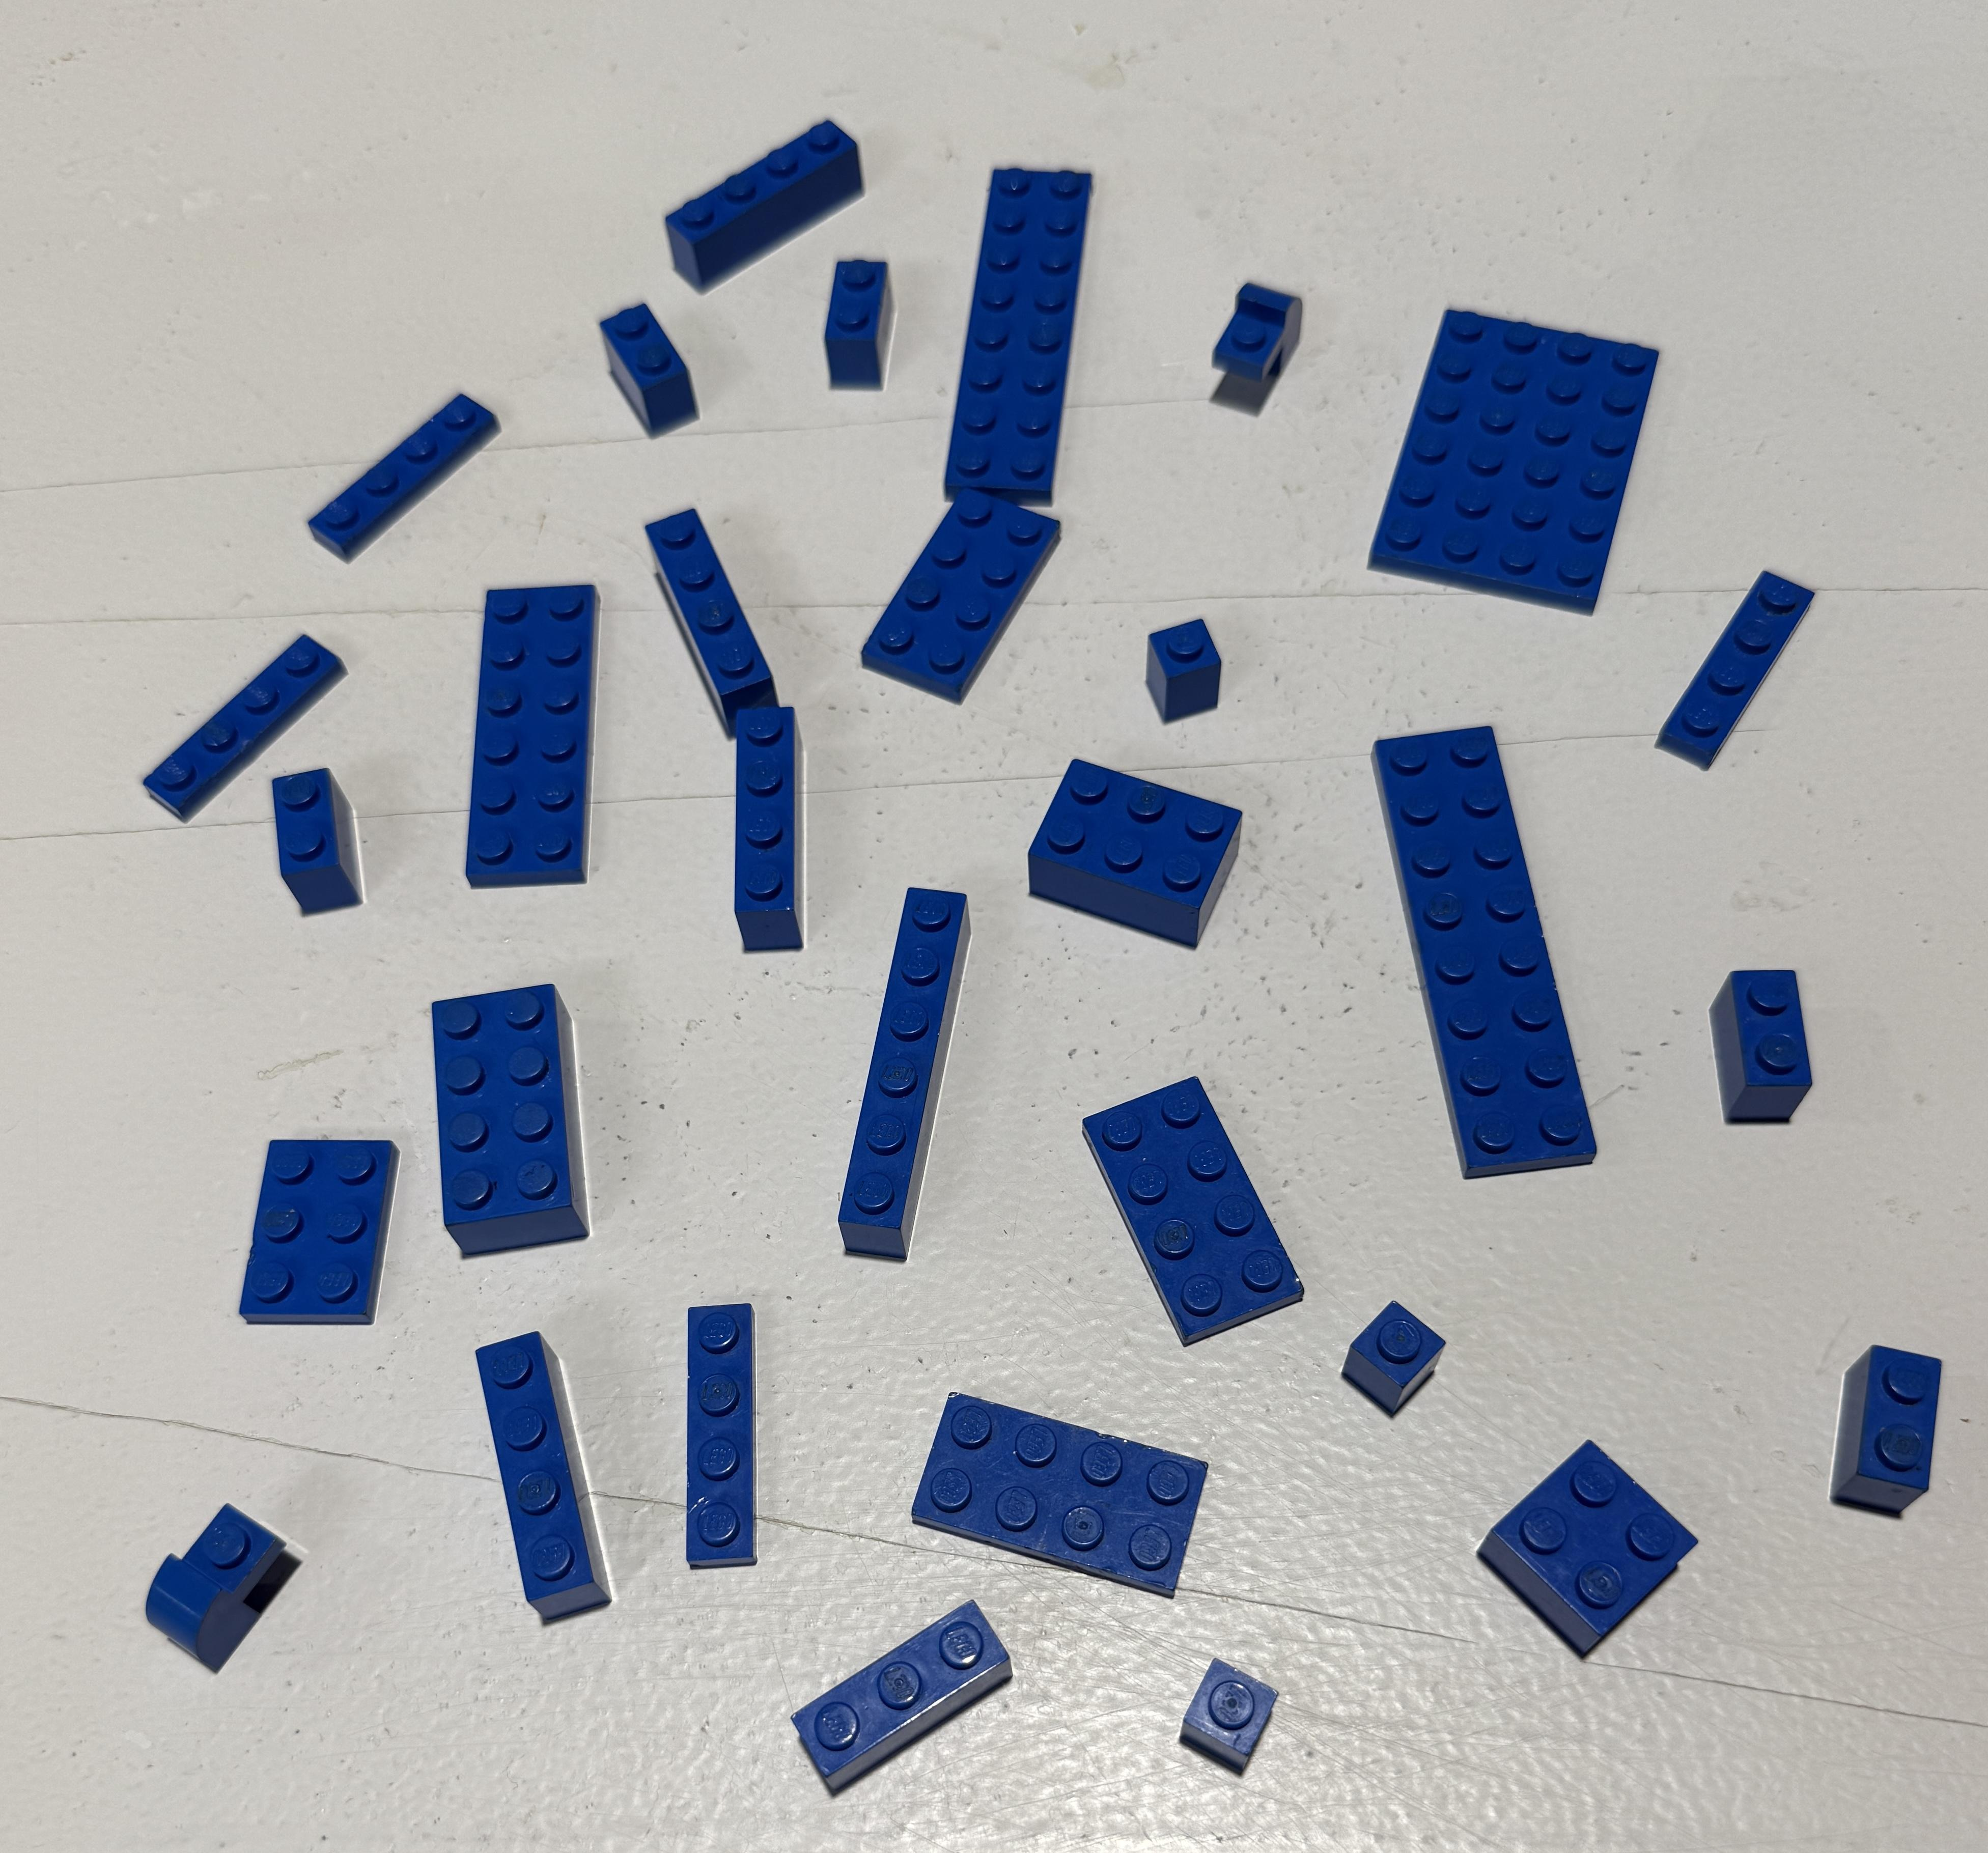brick_1x1: (1331, 1277, 1481, 1447), (1117, 596, 1261, 749), (1143, 1632, 1302, 1771)
brick_1x2: (1680, 937, 1856, 1170), (247, 742, 411, 933), (568, 294, 747, 458), (801, 214, 913, 423)
brick_1x3: (767, 1571, 1044, 1802)
brick_1x4: (441, 1306, 632, 1653), (659, 683, 861, 965), (625, 96, 890, 296), (653, 1271, 789, 1581), (629, 500, 795, 737)
brick_2x2: (1458, 1419, 1713, 1670)
brick_2x3: (998, 742, 1279, 972)
brick_2x4: (408, 951, 620, 1271)
